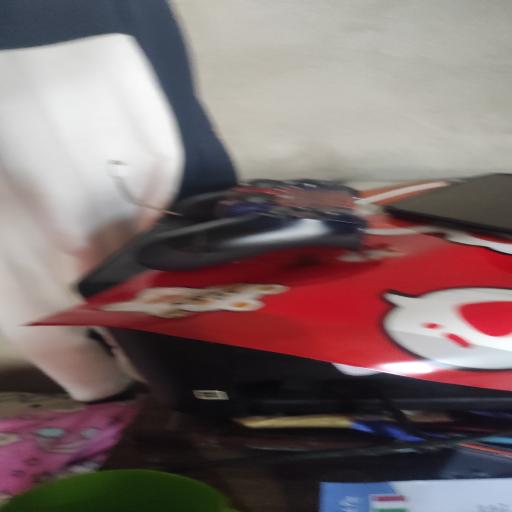ControlPlay4: (138, 178, 366, 271)
